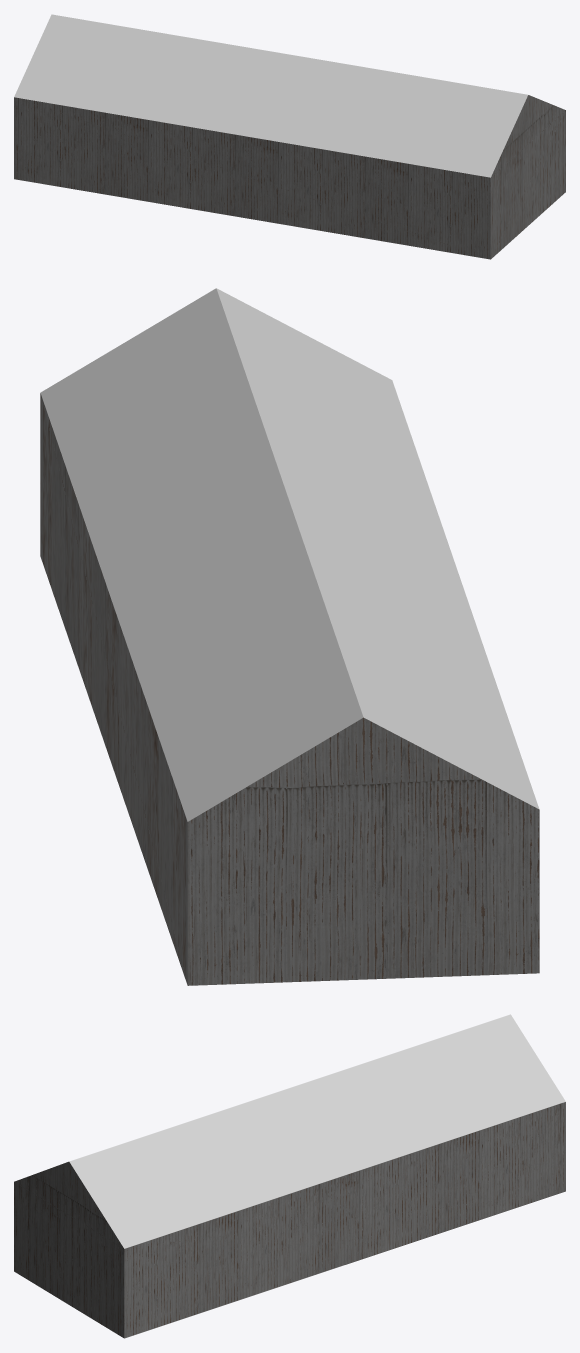
File: techniZrif3.gltf
The picture shows the model from 3 angles, top to bottom: view 1: azimuth 30°, elevation 25°; view 2: azimuth 150°, elevation 25°; view 3: azimuth 270°, elevation 25°; orthographic projection. The views are drawn at different scales.
Parts seen in each view (by area): view 1: node1, node3; view 2: node3, node1; view 3: node1, node3.
Part boxes in pixels (x1,y1,x2,y2): node1: [14, 95, 565, 259]; node3: [14, 14, 527, 177]; node3: [40, 288, 539, 821]; node1: [40, 393, 539, 985]; node1: [14, 1102, 565, 1338]; node3: [69, 1014, 565, 1248].
Size of the model in its own units: 19.58 by 6.12 by 21.33.
